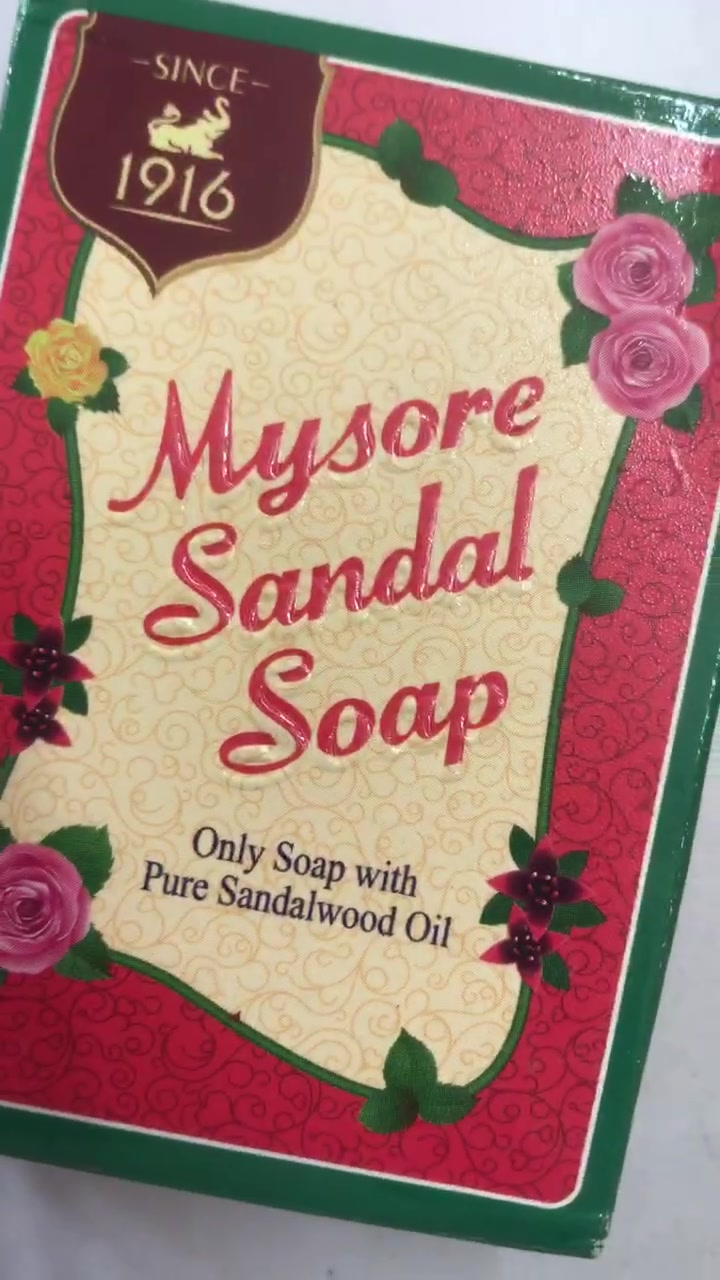mysore sandal soap: (19, 141, 680, 1131)
